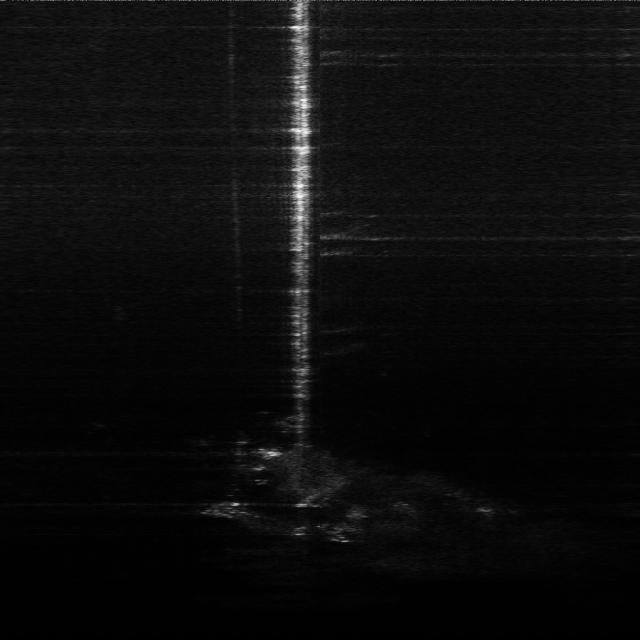rov: (260, 443, 286, 462)
